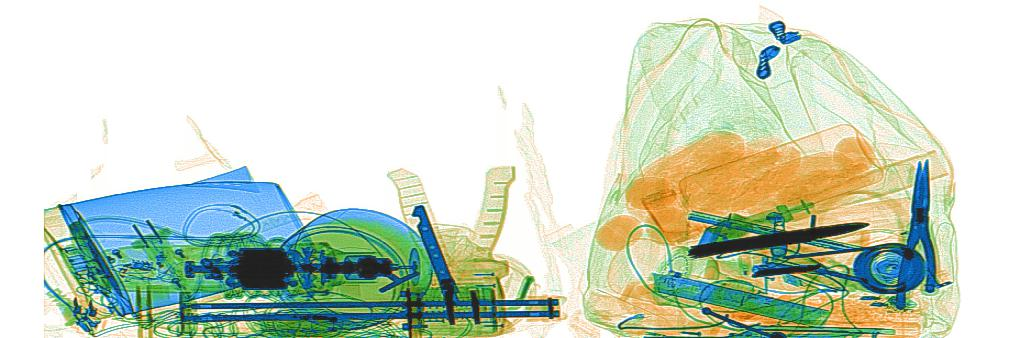knife: (647, 269, 832, 331), (689, 219, 727, 259)
